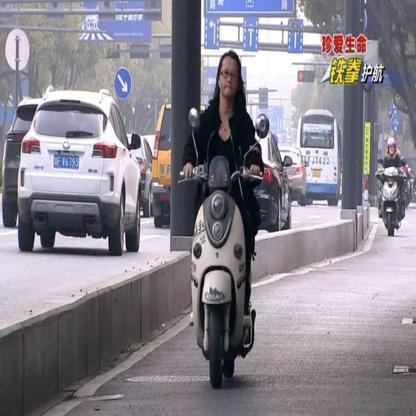target: (178, 48, 278, 389)
